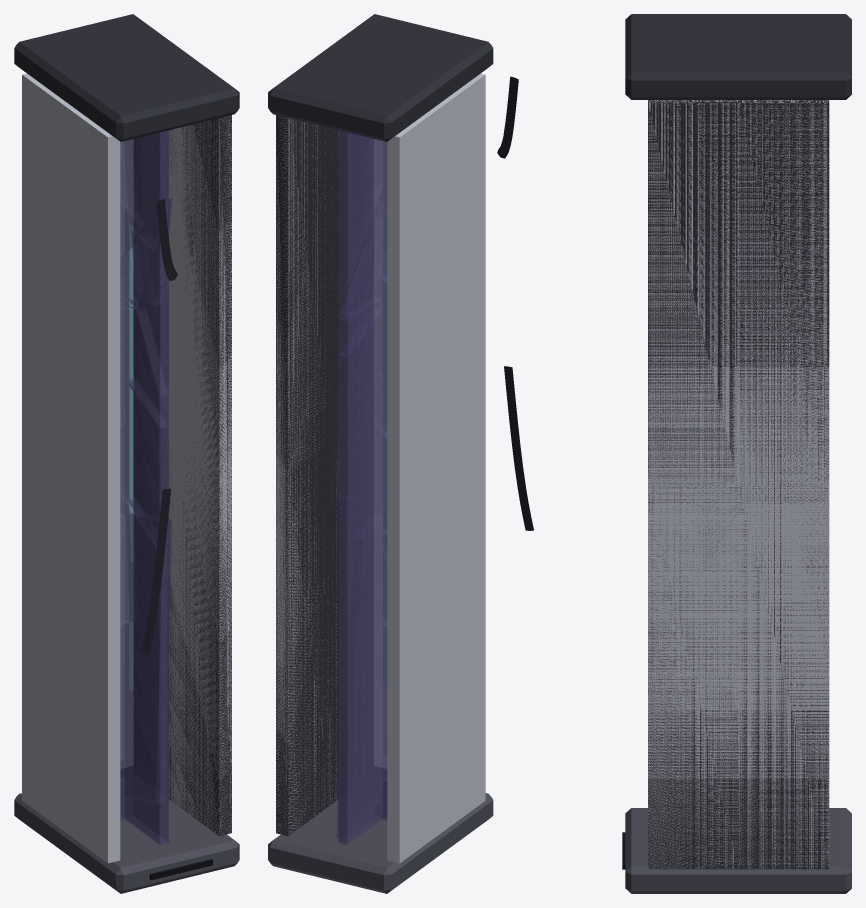
The model's file is mrd_cmp_phase_shield_a.glb.
The picture shows the model from 3 angles, left to right: view 1: azimuth 30°, elevation 25°; view 2: azimuth 150°, elevation 25°; view 3: azimuth 270°, elevation 25°; orthographic projection. The views are drawn at different scales.
Visible parts, largest first — view 1: mesh_heavy, mesh_intact, mesh_light; view 2: mesh_heavy, mesh_intact, mesh_light; view 3: mesh_heavy, mesh_light.
Part boxes in pixels (x1,y1,x2,y2): mesh_heavy: (14, 14, 239, 893); mesh_intact: (22, 76, 168, 863); mesh_light: (120, 116, 231, 843); mesh_heavy: (268, 14, 533, 893); mesh_intact: (339, 76, 485, 862); mesh_light: (276, 115, 387, 842); mesh_heavy: (622, 14, 851, 893); mesh_light: (648, 100, 829, 869).
Bounding box in the file's own units: 0.2122 × 1.2 × 0.384.
